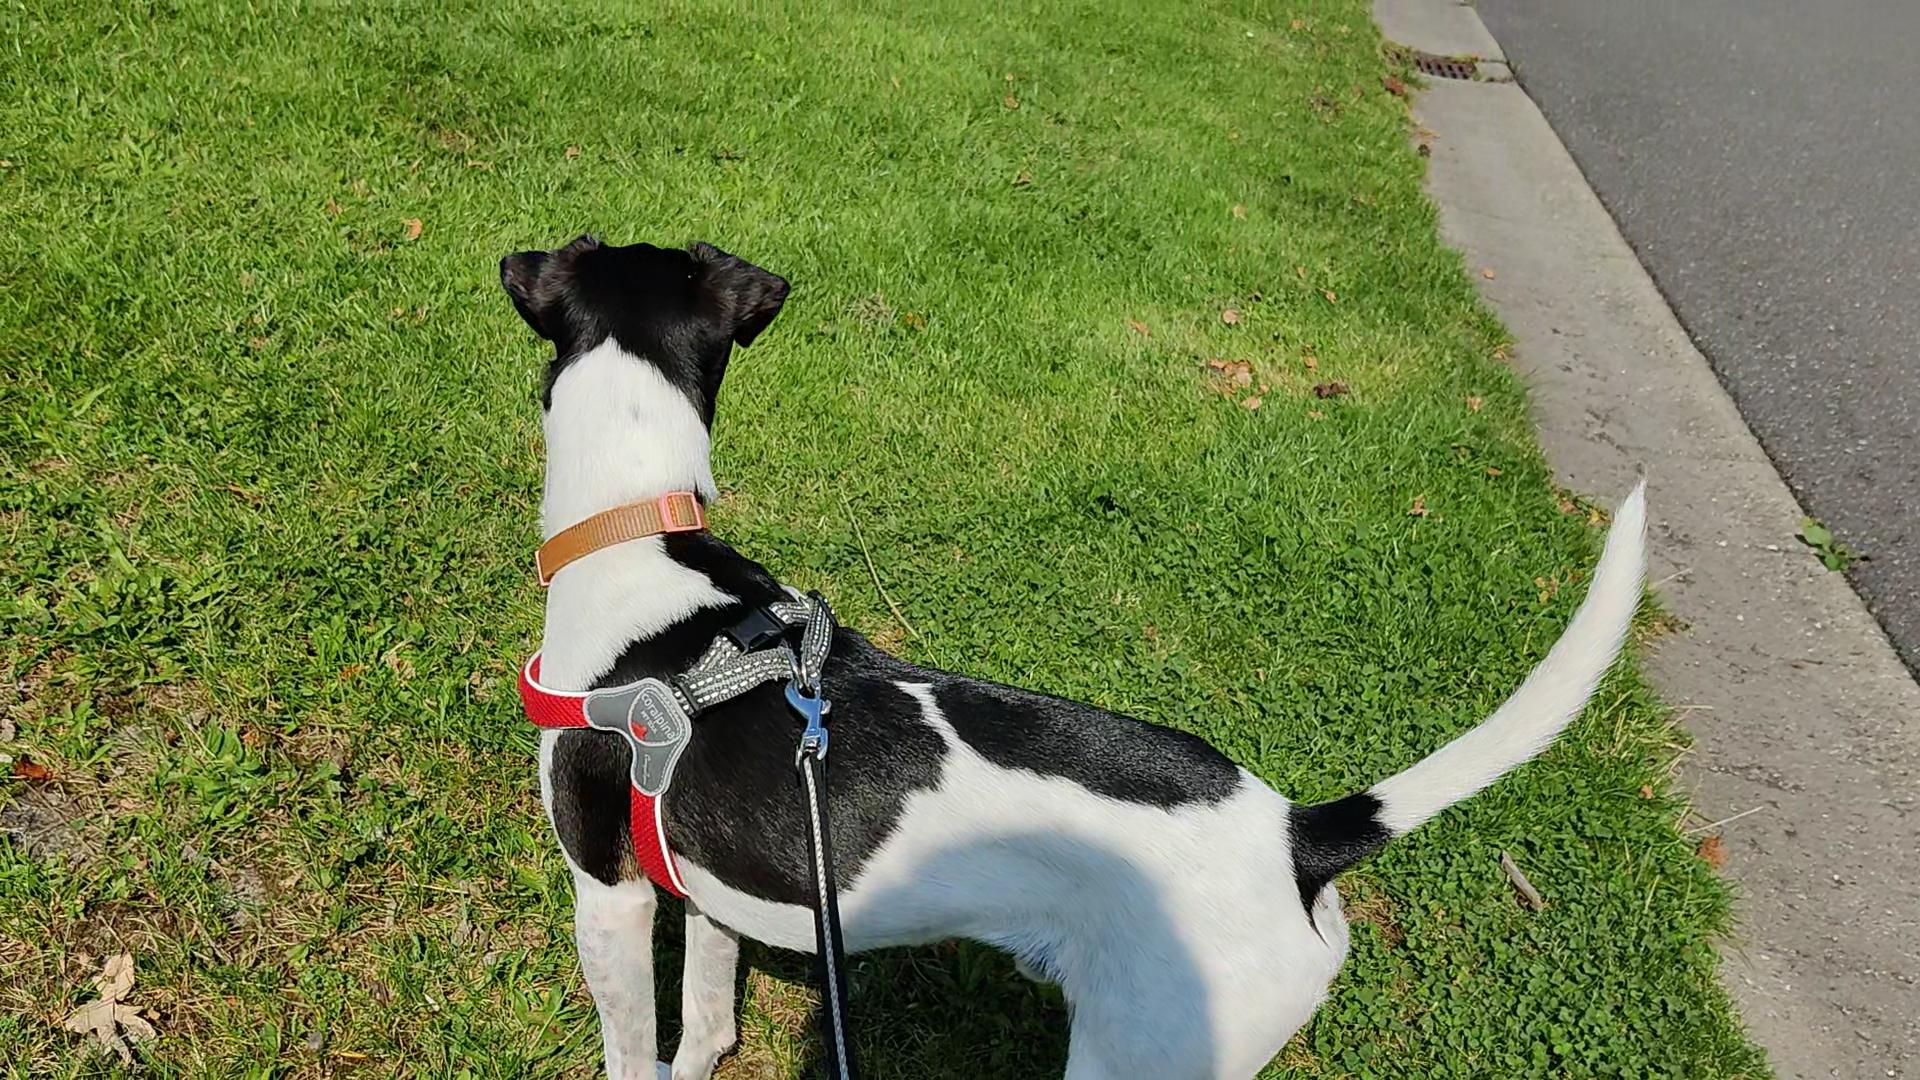Dog: (469, 212, 1689, 1079)
